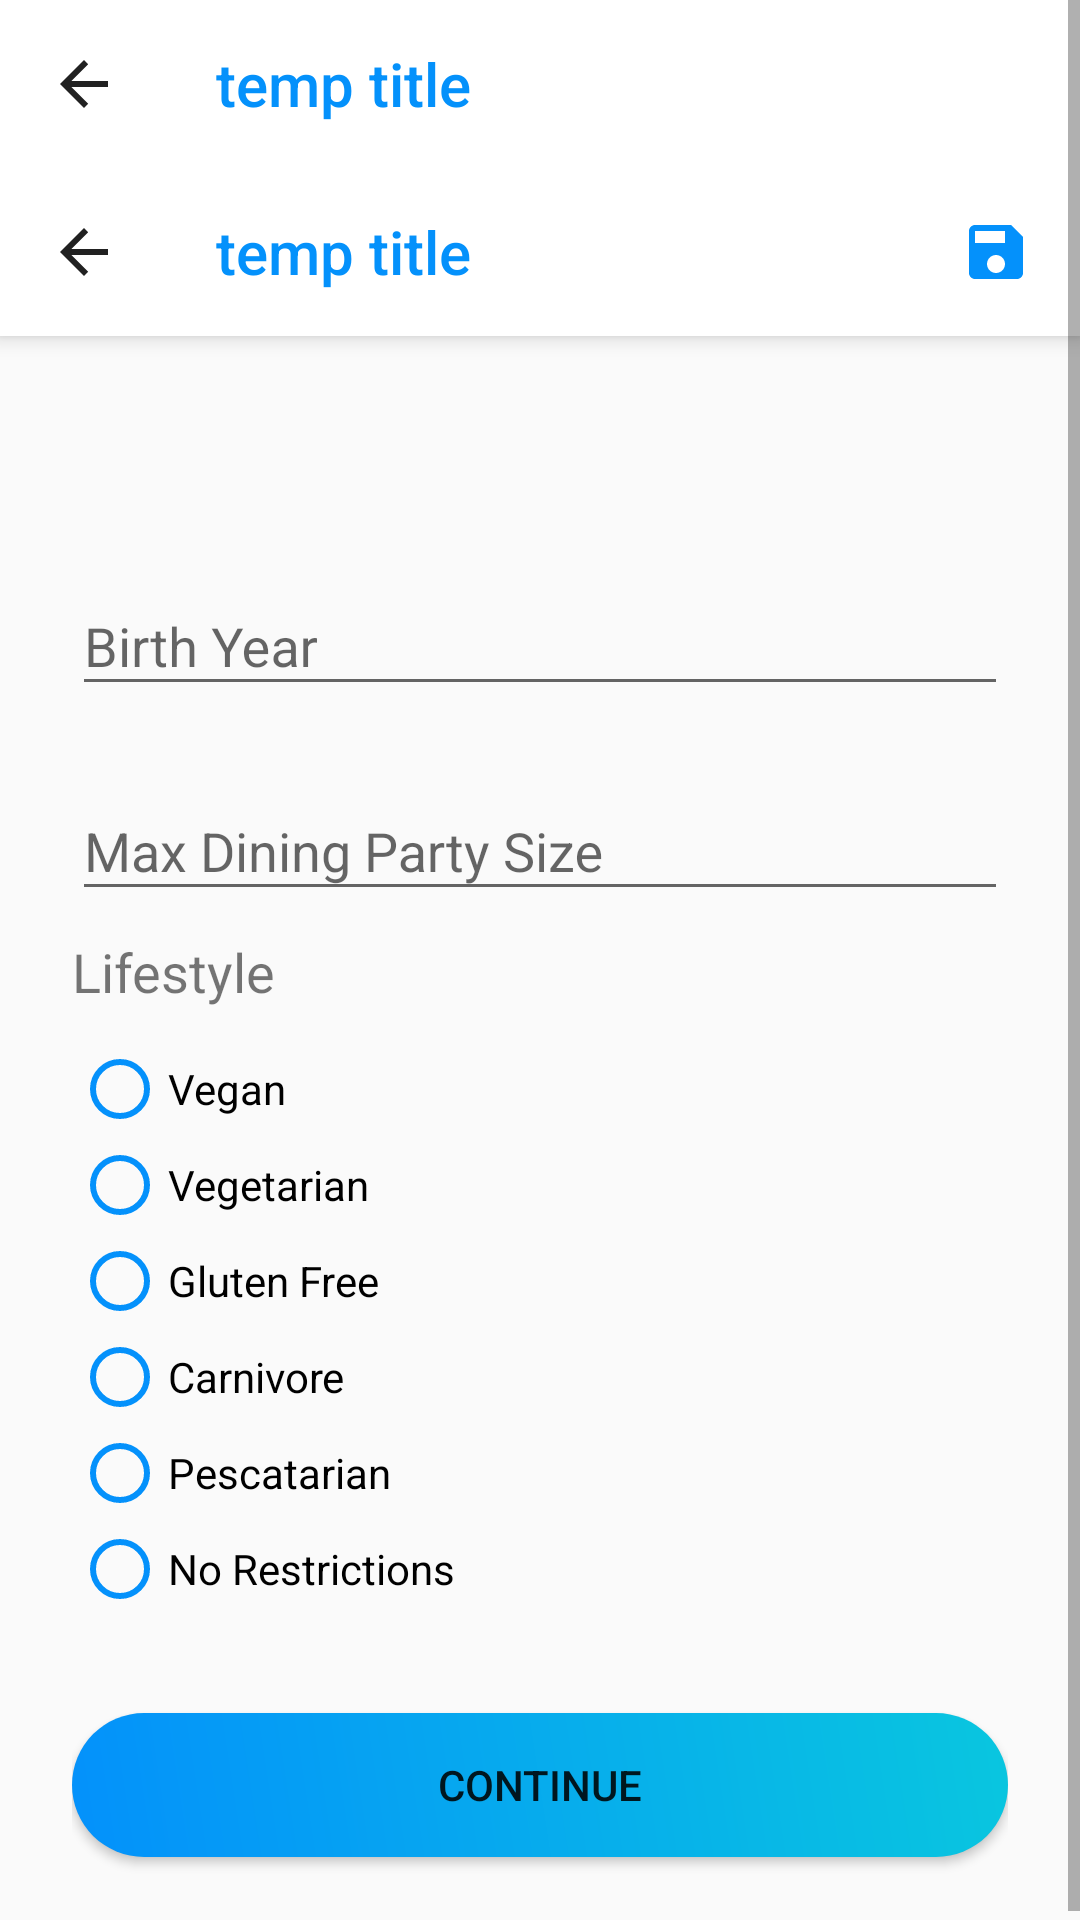

Named icons in this screenshot (1080px x 1920px) and their bounding boxes, (x1, y1, x2, y2):
save: (969, 225, 1023, 279)
